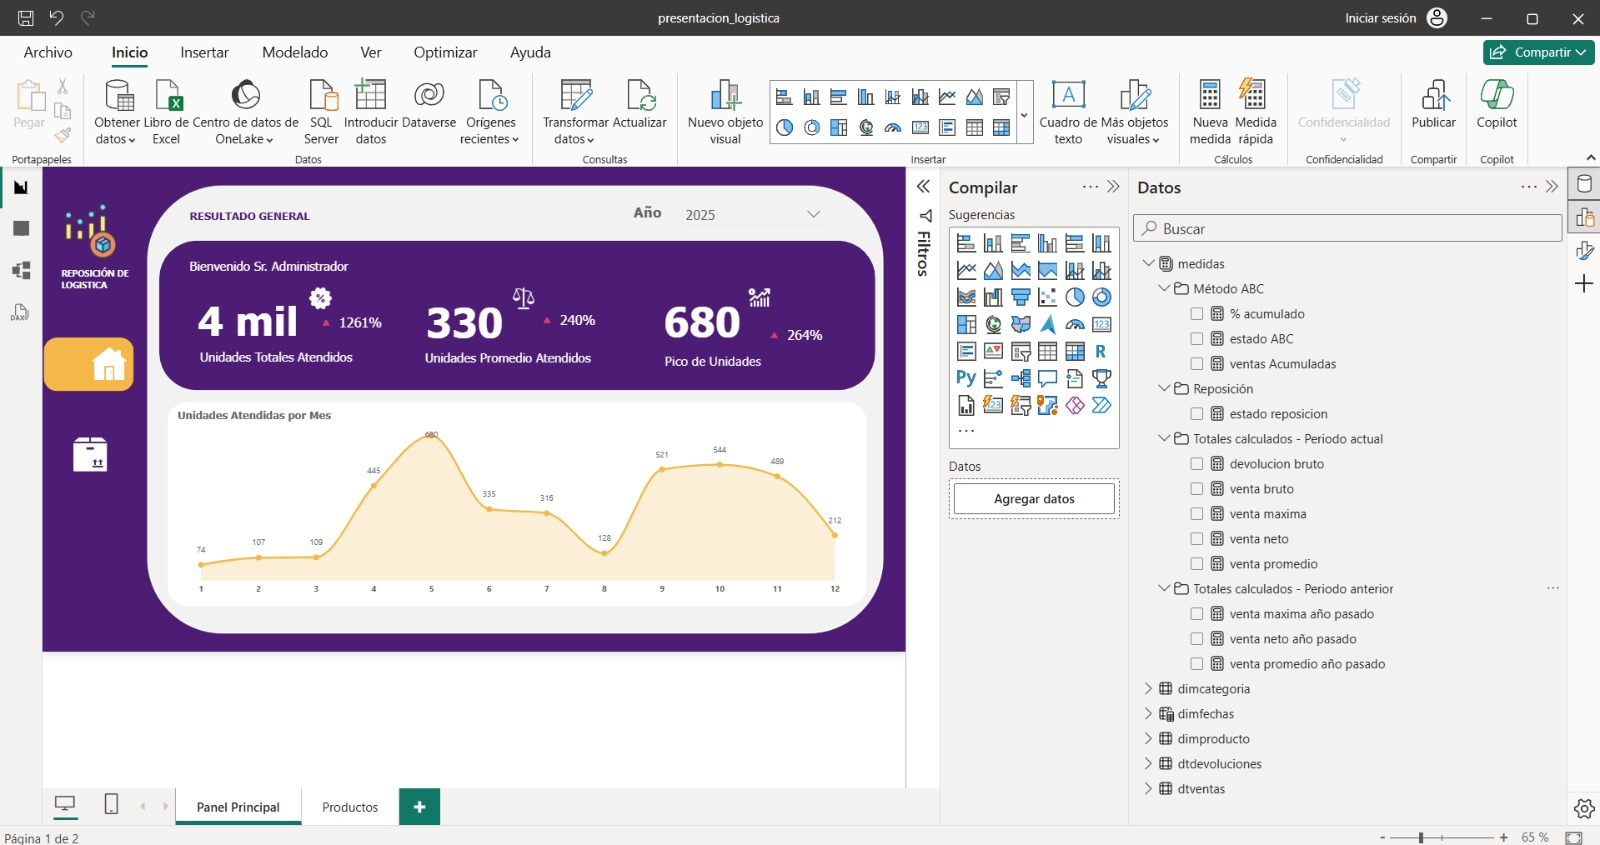

The page's visual inventory and layout, read from the dashboard file:
{"tool":"powerbi","page":{"name":"Panel Principal","canvas":[1280,720],"ordinal":0},"visuals":[{"type":"image","box":[135.3,22.8,1133.3,674.9],"z":0},{"type":"shape","box":[172.5,109,1062.2,222.1],"z":0,"group":"g1"},{"type":"cardVisual","title":"Total de Unidades Vendidas","fields":{"Data":["dimcategoria.Venta Neto"]},"box":[213.4,155,280.2,132.3],"z":1000,"group":"g1"},{"type":"lineChart","title":"Unidades Atendidas por Mes","fields":{"Category":["dimfechas.MesNombre"],"Y":["dimcategoria.Venta Neto","dtventas.venta promedio eje secundario"]},"box":[184.8,349.8,1036.9,302.6],"z":1000},{"type":"slicer","fields":{"Values":["dimfechas.Año"]},"box":[938.4,43.6,231.6,60.2],"z":2000},{"type":"textbox","box":[219.4,277.8,324.6,46.2],"z":2000,"group":"g1"},{"type":"textbox","box":[872.2,49.6,63.2,40.6],"z":3000},{"type":"cardVisual","fields":{"Data":["dimcategoria.Venta Maxima"]},"box":[904.1,166.6,300.4,101.1],"z":3000,"group":"g1"},{"type":"group","id":"g1","title":"Grupo 1","box":[172.5,109,1062.2,222.1],"z":4000},{"type":"cardVisual","fields":{"Data":["dimcategoria.Venta Promedio"]},"box":[551.9,167.8,300.1,96.7],"z":4000,"group":"g1"},{"type":"textbox","box":[213.6,58.4,222.1,31.3],"z":5000},{"type":"textbox","box":[564.3,276.4,341.9,41.8],"z":5000,"group":"g1"},{"type":"image","box":[389.5,167.4,45.9,57.1],"z":6000},{"type":"textbox","box":[910.5,276.4,165.9,41.8],"z":6000,"group":"g1"},{"type":"image","box":[684.2,172.9,57.1,45.1],"z":7000},{"type":"image","box":[1040.6,166.9,45.1,54.1],"z":8000},{"type":"image","box":[35,49.5,96.5,95.3],"z":9000},{"type":"textbox","box":[22.8,143.8,129.6,48.4],"z":10000},{"type":"textbox","box":[213.6,131,679.2,48.4],"z":11000},{"type":"shape","box":[2.2,254.1,133.9,79.6],"z":12000},{"type":"image","box":[68.8,258.2,62.7,71.2],"z":13000},{"type":"image","box":[36.2,392.1,70,68.8],"z":14000},{"type":"cardVisual","fields":{"Data":["dimcategoria.Vental Neto Año Pasado"]},"box":[389.5,191,135.3,58.6],"z":15000},{"type":"cardVisual","fields":{"Data":["dimcategoria.Venta Promedio Año Pasado"]},"box":[717.3,188,135.3,55.6],"z":16000},{"type":"cardVisual","fields":{"Data":["dimcategoria.Venta Maxima Año Pasado"]},"box":[1041.2,195.4,135.1,54.3],"z":17000},{"type":"textbox","box":[406.9,238.1,137.1,56.3],"z":18000},{"type":"textbox","box":[735.8,233.7,137.1,53.4],"z":19000},{"type":"textbox","box":[1060.4,245.3,137.1,56.3],"z":20000}]}

Visuals, with their boxes on the page's 1280x720 design canvas (x1, y1, x2, y2). These are canvas units, not pixel positions in the 1600x845 screenshot, which may show the page scaled, cropped or inside an application window:
image: detection(135, 23, 1269, 698)
shape: detection(172, 109, 1235, 331)
"Total de Unidades Vendidas" cardVisual: detection(213, 155, 494, 287)
"Unidades Atendidas por Mes" lineChart: detection(185, 350, 1222, 652)
slicer - dimfechas.Año: detection(938, 44, 1170, 104)
textbox: detection(219, 278, 544, 324)
textbox: detection(872, 50, 935, 90)
cardVisual - dimcategoria.Venta Maxima: detection(904, 167, 1204, 268)
"Grupo 1" group: detection(172, 109, 1235, 331)
cardVisual - dimcategoria.Venta Promedio: detection(552, 168, 852, 264)
textbox: detection(214, 58, 436, 90)
textbox: detection(564, 276, 906, 318)
image: detection(390, 167, 435, 224)
textbox: detection(910, 276, 1076, 318)
image: detection(684, 173, 741, 218)
image: detection(1041, 167, 1086, 221)
image: detection(35, 50, 132, 145)
textbox: detection(23, 144, 152, 192)
textbox: detection(214, 131, 893, 179)
shape: detection(2, 254, 136, 334)
image: detection(69, 258, 132, 329)
image: detection(36, 392, 106, 461)
cardVisual - dimcategoria.Vental Neto Año Pasado: detection(390, 191, 525, 250)
cardVisual - dimcategoria.Venta Promedio Año Pasado: detection(717, 188, 853, 244)
cardVisual - dimcategoria.Venta Maxima Año Pasado: detection(1041, 195, 1176, 250)
textbox: detection(407, 238, 544, 294)
textbox: detection(736, 234, 873, 287)
textbox: detection(1060, 245, 1198, 302)
